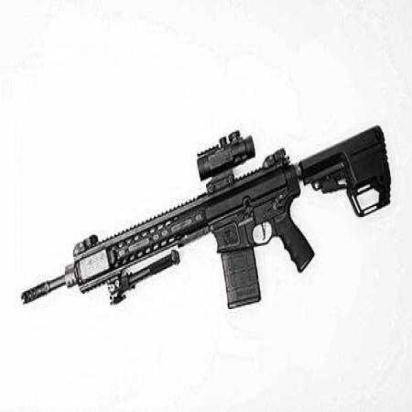Gun: (11, 72, 403, 352)
